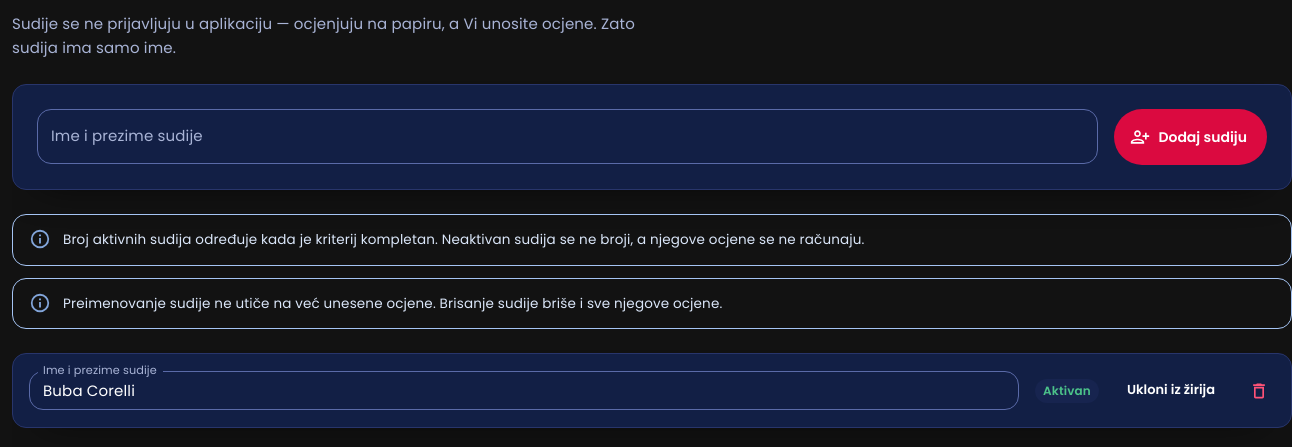
Test case: JudgesTab › puts the saved name back when a rename is refused
Clear the 2nd field labelled "Ime i prezime sudije" at (524, 391), box [29,371,1019,410]
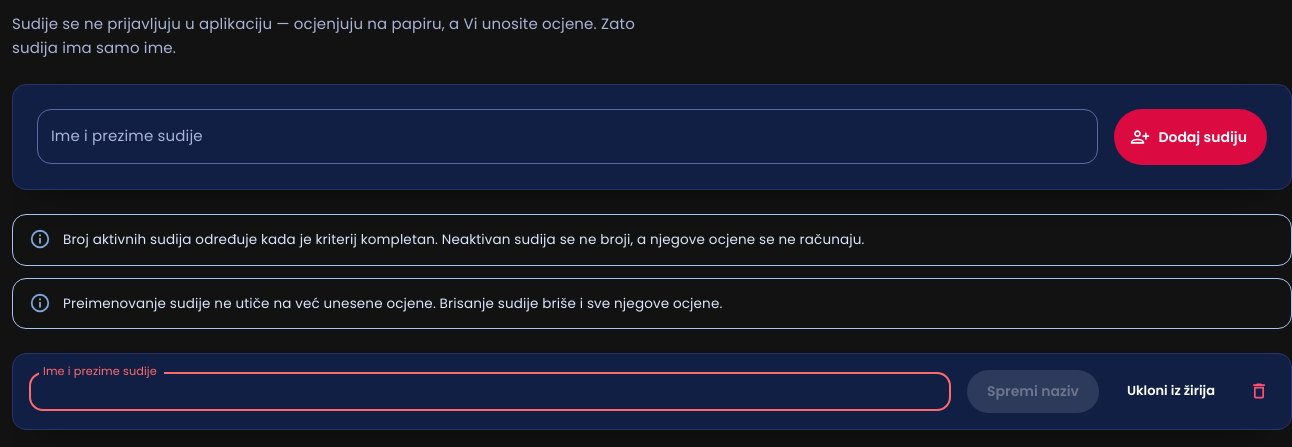
Type "Novo ime" into the 2nd field labelled "Ime i prezime sudije" at (490, 392), box [29,372,951,411]
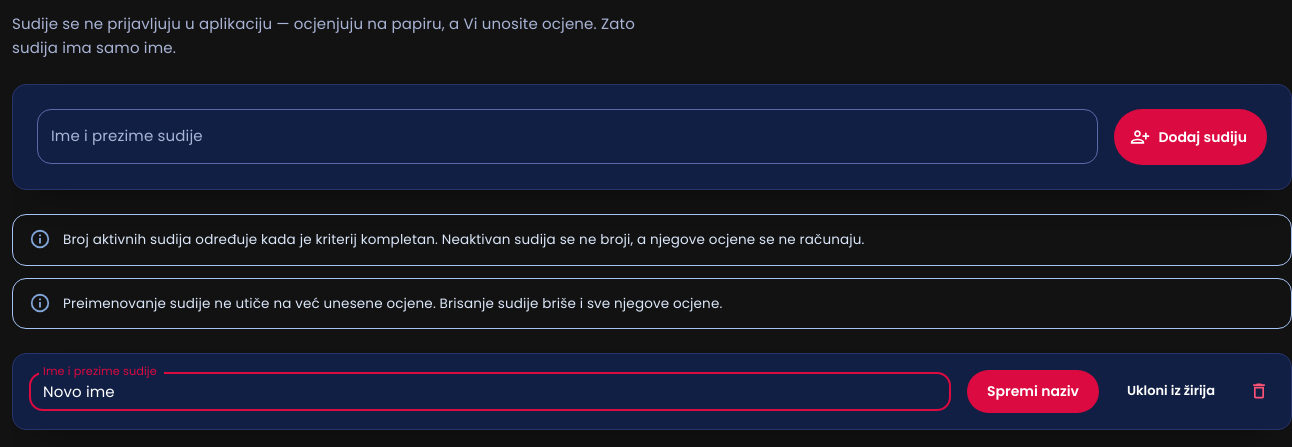
Click the button "Spremi naziv" at (1033, 391), box [967,370,1099,413]
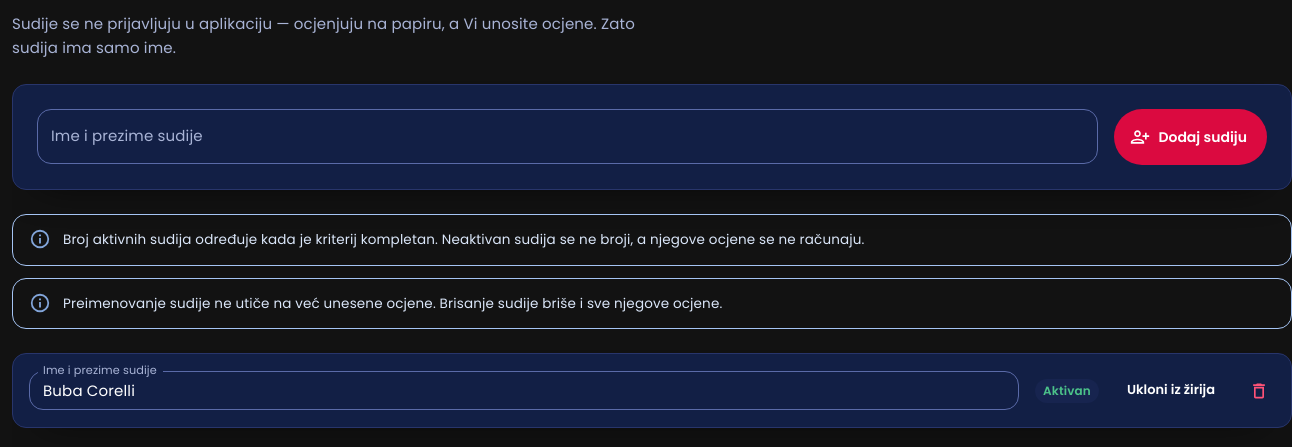
Result: the 2nd field showing "Novo ime" holds "Buba Corelli" at [29,371,1019,410]
